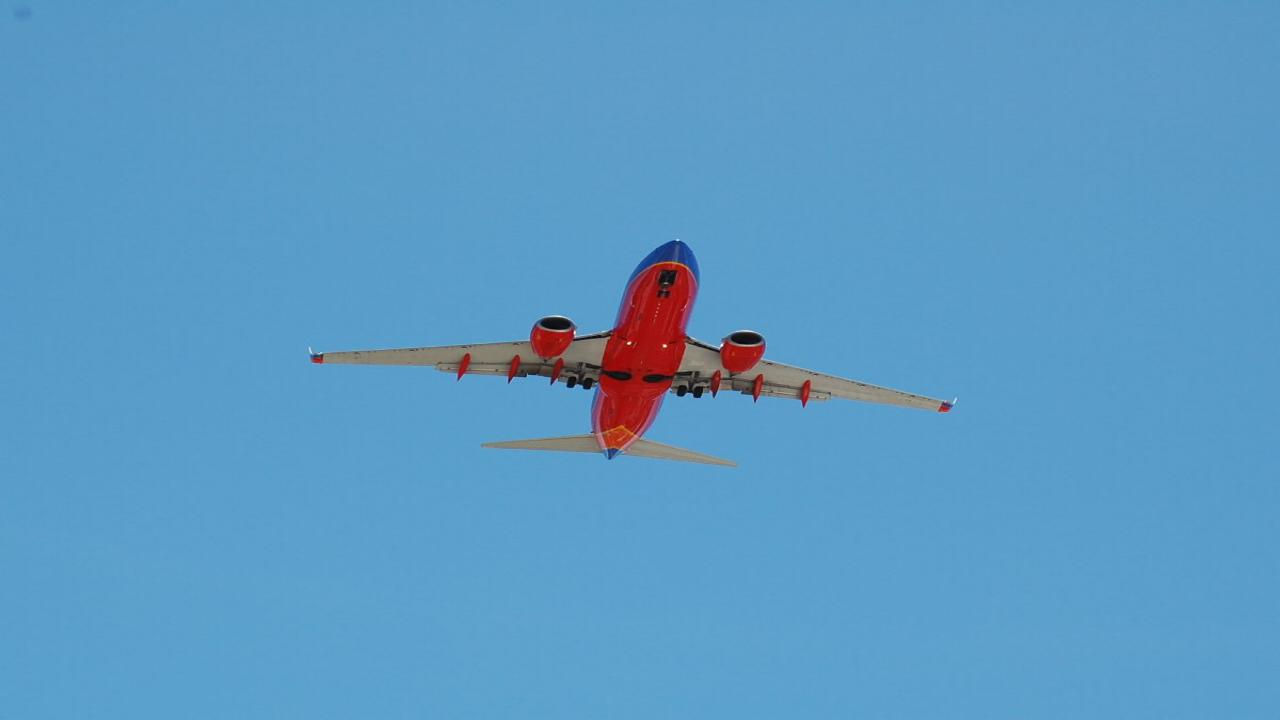Airplane: (289, 229, 970, 476)
